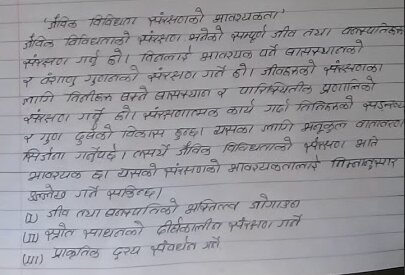text: (228, 154, 321, 172), (105, 198, 182, 218), (284, 39, 364, 57), (80, 219, 147, 240), (221, 136, 294, 154), (155, 218, 225, 236), (83, 65, 141, 85), (142, 105, 219, 120), (163, 157, 222, 176), (320, 75, 376, 95), (148, 235, 197, 257), (237, 81, 312, 95), (296, 95, 354, 113), (323, 60, 386, 76), (146, 8, 205, 25), (61, 31, 132, 45), (259, 59, 317, 76), (212, 9, 281, 23), (341, 23, 405, 38), (185, 198, 241, 215), (249, 193, 301, 211), (329, 156, 399, 169), (73, 125, 114, 145), (26, 184, 67, 204), (21, 53, 72, 69), (140, 47, 191, 63), (299, 118, 349, 134), (24, 109, 71, 126), (74, 145, 118, 163), (226, 216, 272, 233), (106, 184, 158, 199), (65, 88, 113, 104), (51, 244, 99, 260), (153, 88, 212, 101), (200, 48, 254, 62), (147, 67, 197, 82), (21, 147, 65, 164), (27, 169, 84, 182), (119, 125, 166, 140), (137, 30, 183, 45), (303, 137, 346, 153), (117, 162, 160, 178), (355, 117, 404, 131), (88, 14, 139, 27), (132, 143, 171, 160), (362, 98, 405, 113), (230, 25, 267, 42), (187, 26, 226, 42), (43, 222, 74, 241), (211, 123, 255, 136), (176, 141, 211, 157), (225, 99, 256, 117), (40, 73, 79, 87), (22, 34, 55, 50), (261, 118, 294, 134), (111, 244, 143, 260), (119, 85, 149, 101), (48, 14, 77, 30), (78, 107, 105, 124), (263, 98, 291, 114), (37, 130, 64, 146), (21, 92, 54, 105), (75, 50, 101, 66), (277, 214, 304, 229), (172, 126, 200, 140), (355, 134, 379, 150), (270, 26, 297, 40), (74, 185, 99, 200), (46, 204, 71, 219), (202, 65, 226, 79), (301, 27, 333, 37), (113, 105, 133, 121), (258, 43, 279, 58), (201, 235, 222, 250), (106, 48, 123, 65), (75, 208, 102, 218), (231, 63, 248, 78), (91, 168, 105, 182), (21, 75, 36, 88), (21, 132, 36, 145), (216, 87, 230, 99)
